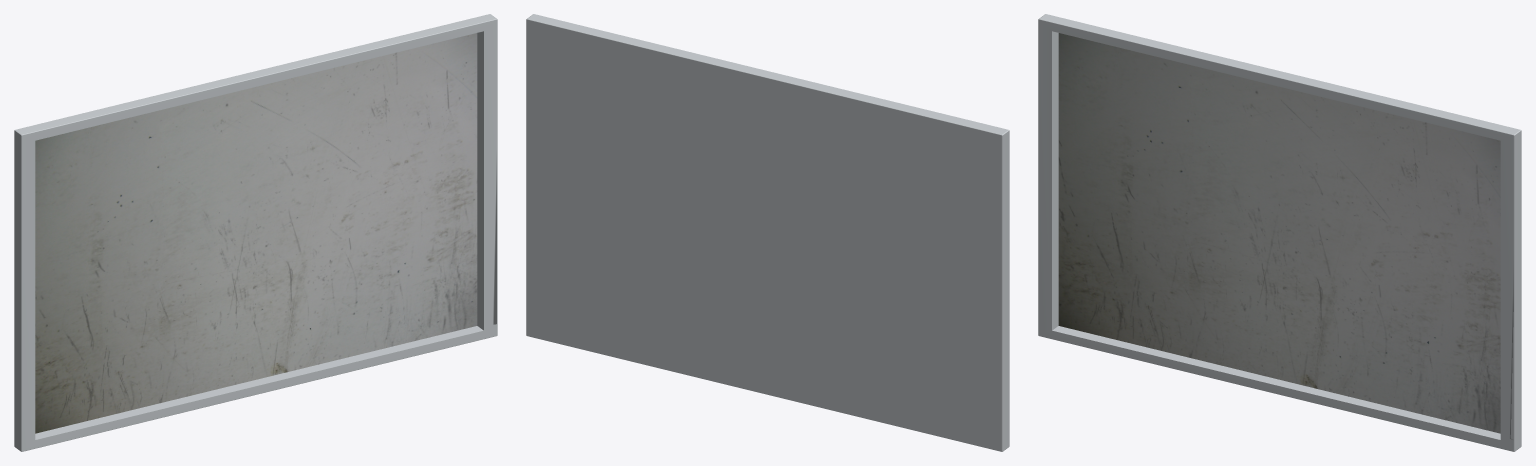
The model's file is QUADRO_BRANCO.fbx.
3 renders of one model, left to right at view 1: azimuth 30°, elevation 25°; view 2: azimuth 150°, elevation 25°; view 3: azimuth 330°, elevation 25°, orthographic.
Parts seen in each view (by area): view 1: pCube8; view 2: pCube8; view 3: pCube8.
Part boxes in pixels (x1,y1,x2,y2): pCube8: (14, 14, 497, 451); pCube8: (526, 14, 1009, 451); pCube8: (1038, 14, 1521, 451).
Bounding box in the file's own units: 350 × 223 × 9.31.
